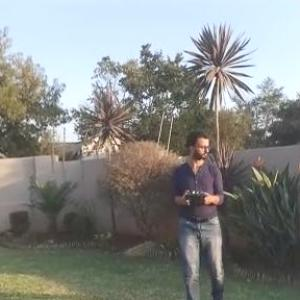follow: (171, 121, 232, 299)
